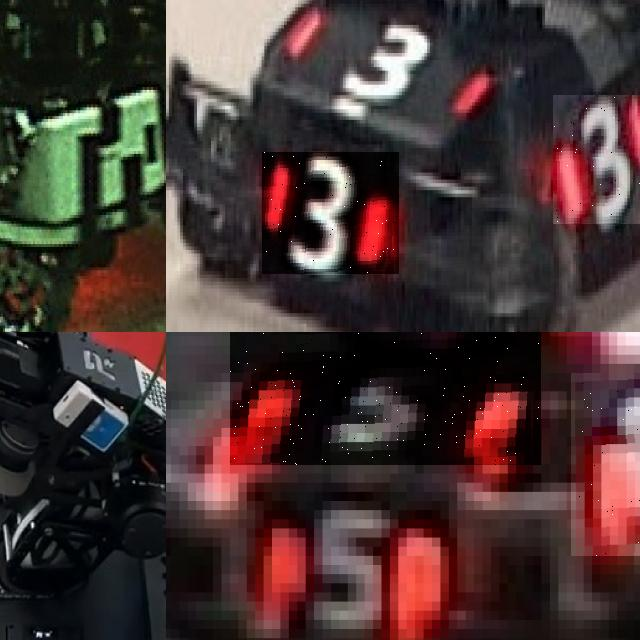R3: (262, 152, 399, 274), (553, 95, 640, 225)
R5: (229, 332, 541, 464), (222, 474, 458, 638), (570, 373, 640, 556)
